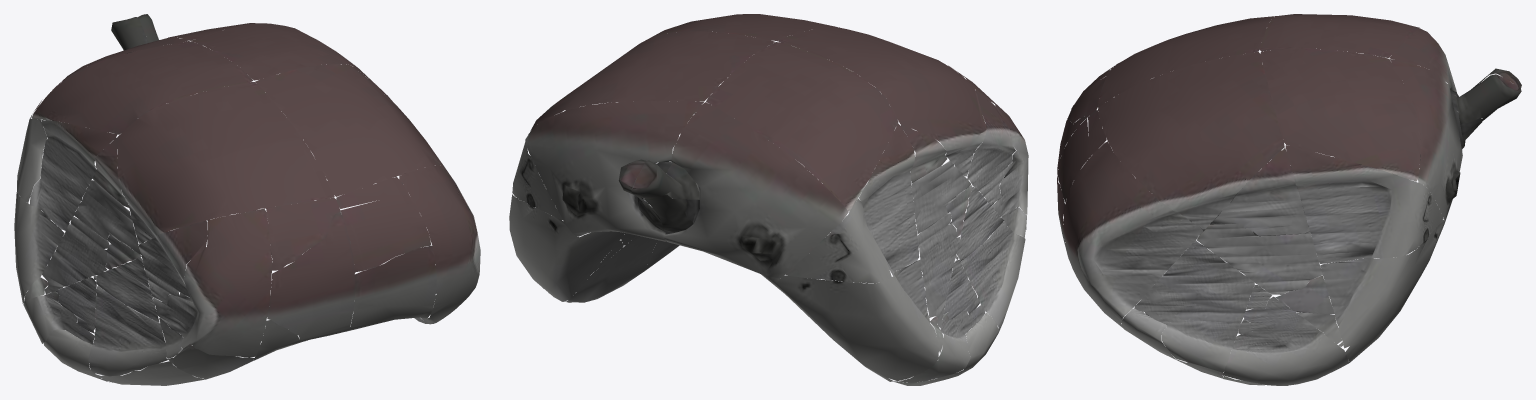
Rendered from wood.glb.
3 views of the same model, side by side, from view 1: azimuth 30°, elevation 25°; view 2: azimuth 150°, elevation 25°; view 3: azimuth 270°, elevation 25° (orthographic). The views are drawn at different scales.
Parts seen in each view (by area): view 1: tripo_node_56bb6e1d-e89e-40d1-9ad7-ee674fa37fd3; view 2: tripo_node_56bb6e1d-e89e-40d1-9ad7-ee674fa37fd3; view 3: tripo_node_56bb6e1d-e89e-40d1-9ad7-ee674fa37fd3.
Boxes of the visible parts, x1=… form: tripo_node_56bb6e1d-e89e-40d1-9ad7-ee674fa37fd3: x1=14, y1=14, x2=480, y2=385; tripo_node_56bb6e1d-e89e-40d1-9ad7-ee674fa37fd3: x1=509, y1=14, x2=1028, y2=385; tripo_node_56bb6e1d-e89e-40d1-9ad7-ee674fa37fd3: x1=1057, y1=14, x2=1521, y2=385.
Bounding box in the file's own units: 0.9534 × 0.6222 × 0.999.
Materials: 1 (1 with a texture image).
